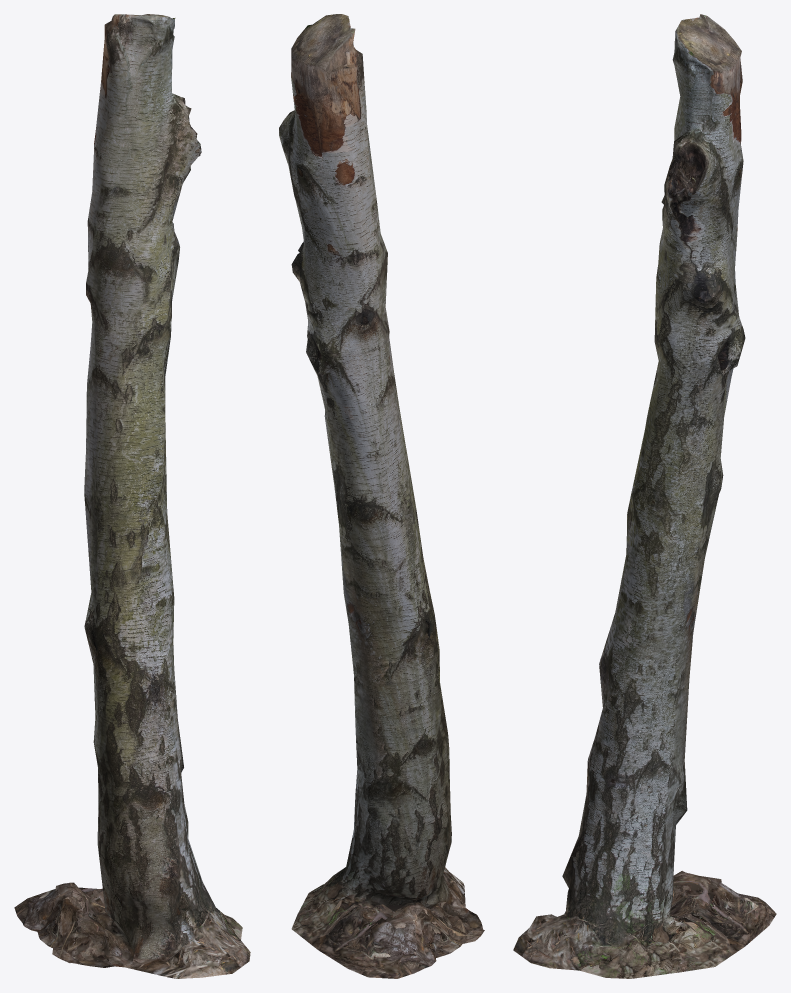
File: SM_BrokenTree_01_01.fbx
3 views of the same model, side by side, from view 1: azimuth 30°, elevation 25°; view 2: azimuth 150°, elevation 25°; view 3: azimuth 270°, elevation 25° (orthographic). The views are drawn at different scales.
Parts seen in each view (by area): view 1: sm_BrokenTree_01_01_LOD0; view 2: sm_BrokenTree_01_01_LOD0; view 3: sm_BrokenTree_01_01_LOD0.
Boxes of the visible parts, <box> form: sm_BrokenTree_01_01_LOD0: <box>14,14,250,978</box>; sm_BrokenTree_01_01_LOD0: <box>279,14,484,978</box>; sm_BrokenTree_01_01_LOD0: <box>513,14,776,978</box>.
Bounding box in the file's own units: 52.17 × 40.54 × 203.
